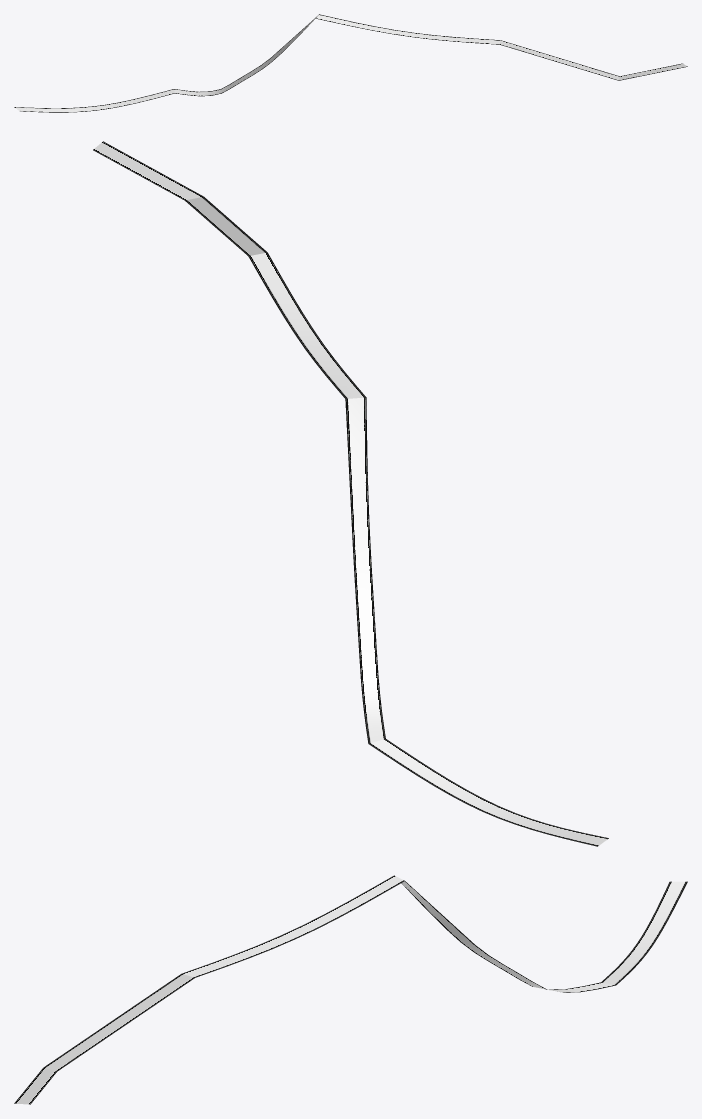
File: M5A_PowerLine03.glb
The picture shows the model from 3 angles, top to bottom: view 1: azimuth 30°, elevation 25°; view 2: azimuth 150°, elevation 25°; view 3: azimuth 270°, elevation 25°; orthographic projection. The views are drawn at different scales.
Visible parts, largest first — view 1: M5A_POWERLINE03; view 2: M5A_POWERLINE03; view 3: M5A_POWERLINE03.
Boxes of the visible parts, box(x1,y1,x2,y2) form: M5A_POWERLINE03: box(14, 14, 687, 112); M5A_POWERLINE03: box(93, 141, 608, 846); M5A_POWERLINE03: box(14, 875, 687, 1104).
Bounding box in the file's own units: 48.01 × 11.29 × 38.52.
1 material, 1 textured.
